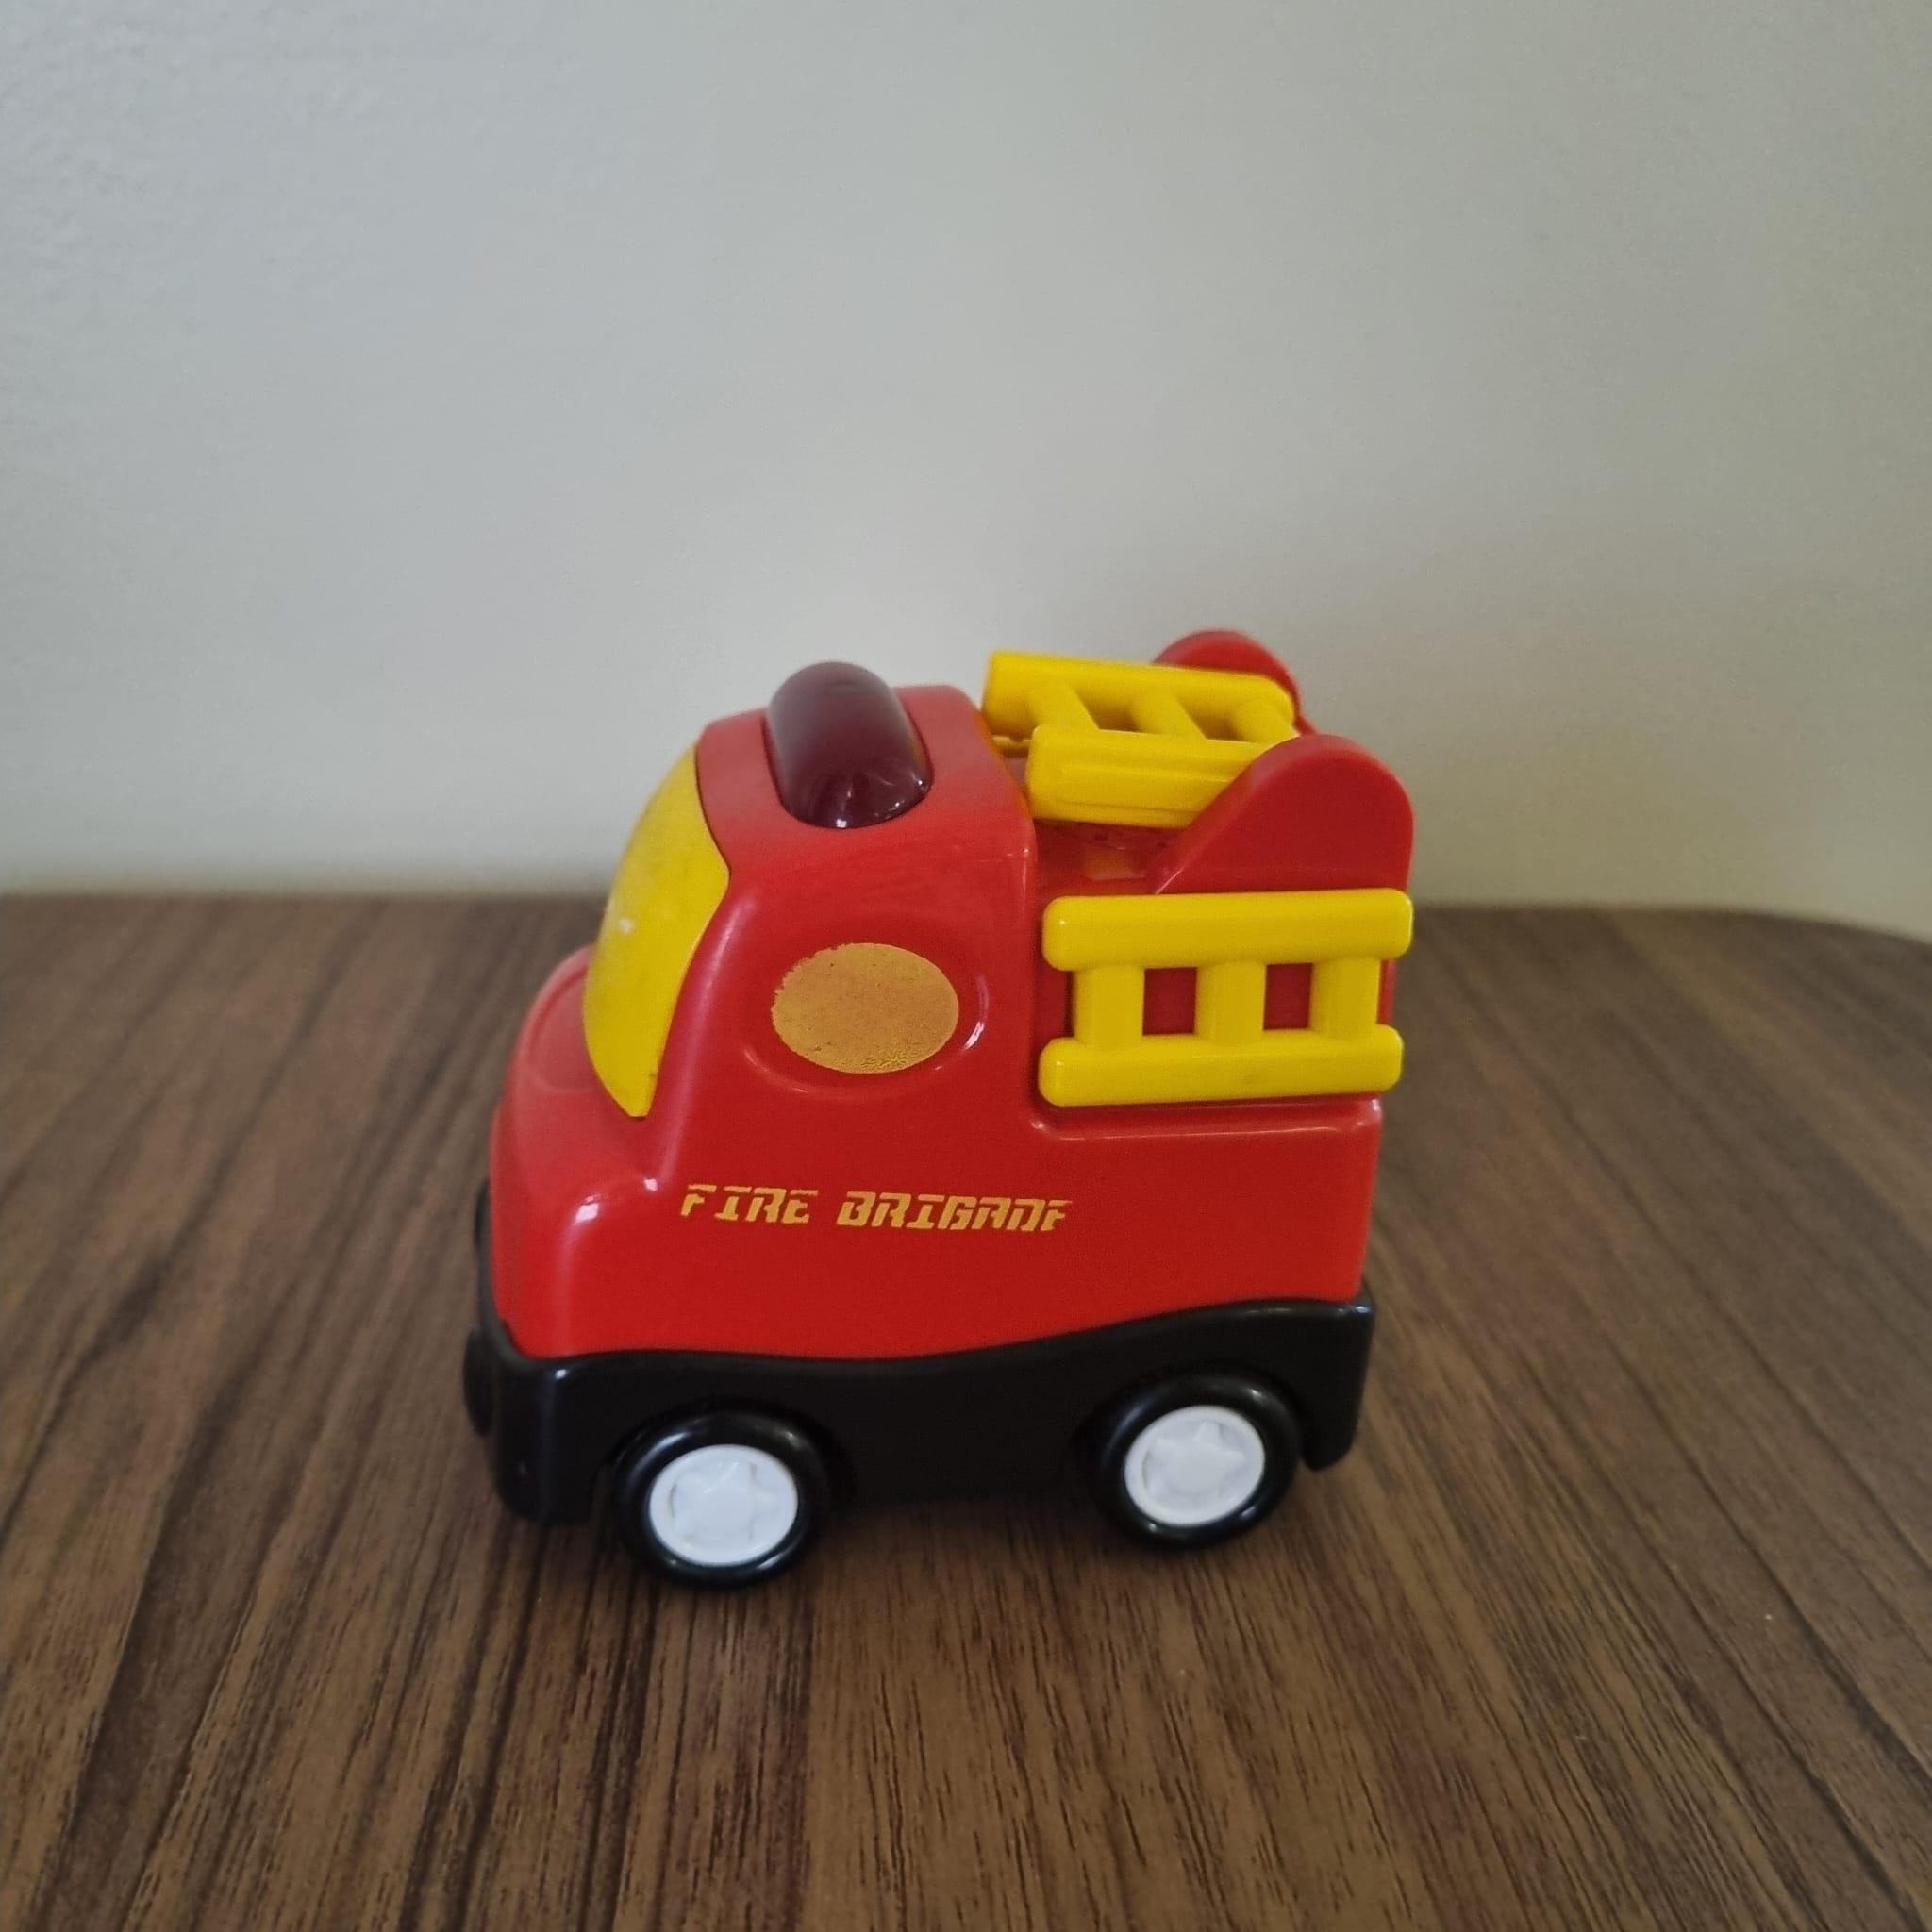firetruck_off: (481, 637, 1410, 1583)
